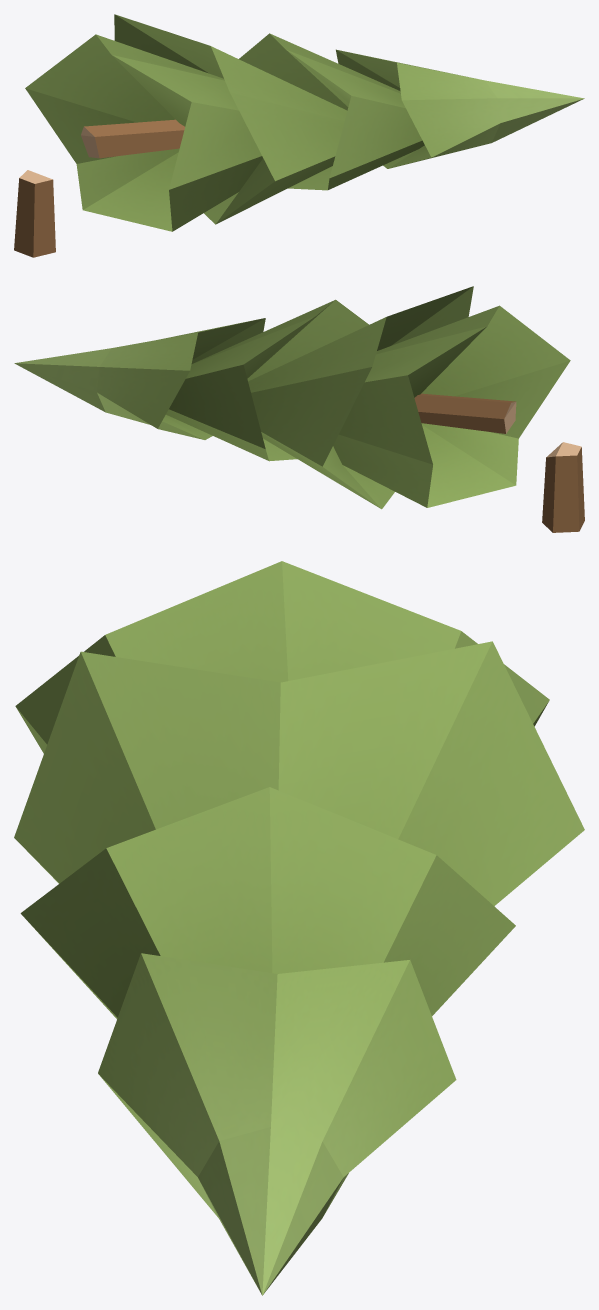
The model's file is Pine_Tree_crk_m_01_LOD.fbx.
The picture shows the model from 3 angles, top to bottom: view 1: azimuth 30°, elevation 25°; view 2: azimuth 150°, elevation 25°; view 3: azimuth 270°, elevation 25°; orthographic projection. The views are drawn at different scales.
Parts seen in each view (by area): view 1: Pine_Tree_crk_m_01_LOD0; view 2: Pine_Tree_crk_m_01_LOD0; view 3: Pine_Tree_crk_m_01_LOD0.
Part boxes in pixels (x1=…): Pine_Tree_crk_m_01_LOD0: x1=14, y1=14, x2=584, y2=257; Pine_Tree_crk_m_01_LOD0: x1=14, y1=286, x2=584, y2=532; Pine_Tree_crk_m_01_LOD0: x1=14, y1=561, x2=584, y2=1295.
Size of what is drawn, in the model's own units: 951 by 284 by 436.
